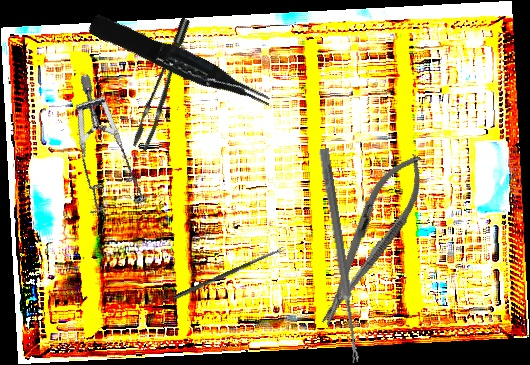Needle Holder: (303, 144, 438, 335)
Speculum: (42, 71, 178, 229)
Surgical Spoon: (317, 147, 363, 364), (173, 246, 285, 301)
Tissue Forceps: (87, 6, 274, 121), (120, 17, 208, 152)
